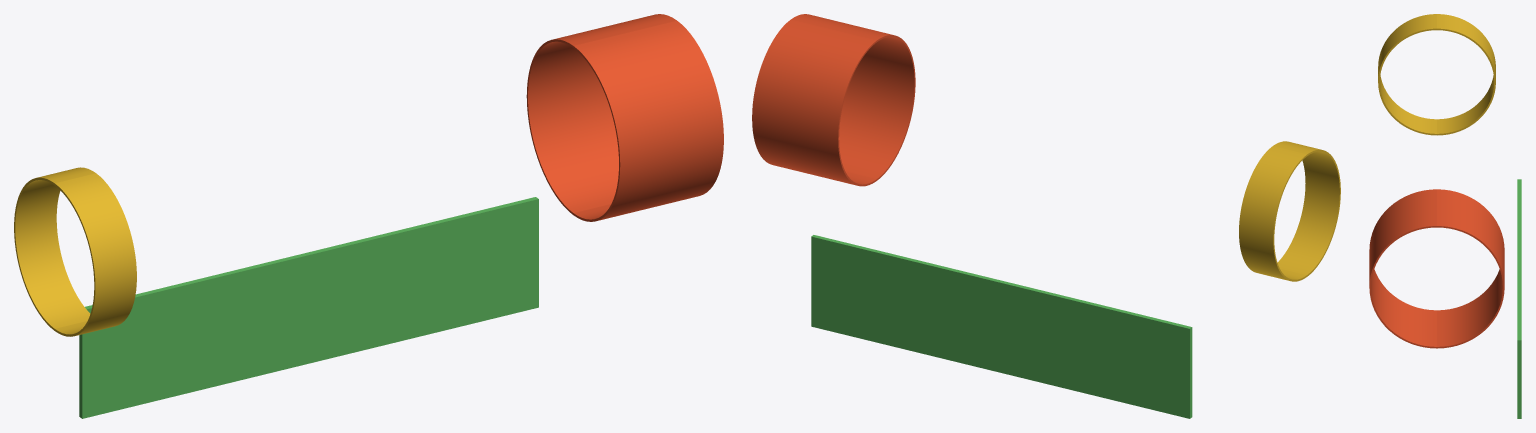
File: bearing_housing_temperature.glb
3 views of the same model, side by side, from view 1: azimuth 30°, elevation 25°; view 2: azimuth 150°, elevation 25°; view 3: azimuth 270°, elevation 25° (orthographic). The views are drawn at different scales.
Visible parts, largest first — view 1: temperature__back, temperature__front; view 2: temperature__back, temperature__front; view 3: temperature__back, temperature__front.
Part boxes in pixels (x1,y1,x2,y2): temperature__back: (14, 14, 676, 418); temperature__front: (54, 20, 723, 336); temperature__back: (752, 19, 1306, 418); temperature__front: (791, 14, 1340, 276); temperature__back: (1437, 14, 1521, 418); temperature__front: (1369, 14, 1436, 348).
Size of the model in its own units: 0.6 by 0.283 by 0.1755.
